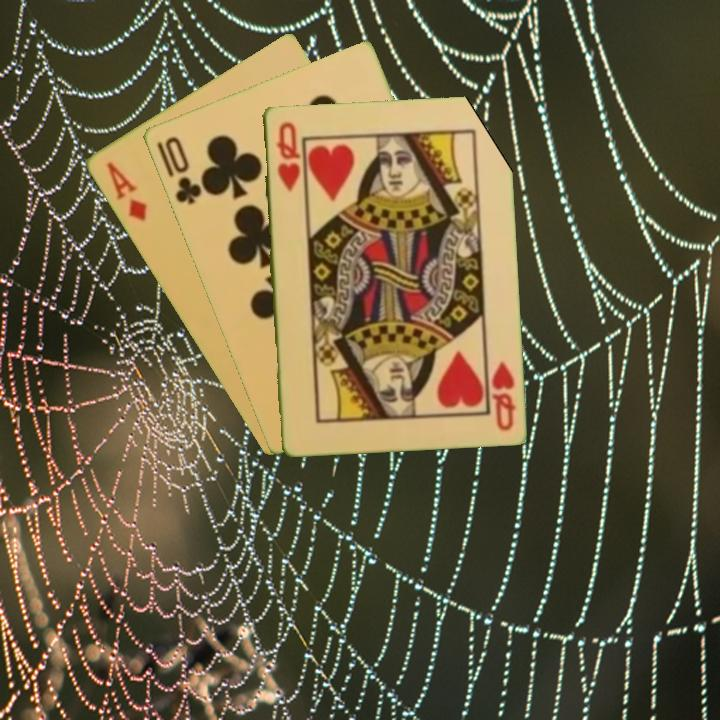10c: (161, 133, 204, 208)
Ad: (102, 158, 150, 224)
Qh: (483, 351, 518, 433), (272, 118, 302, 194)
